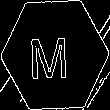M_N: (34, 29, 76, 81)
